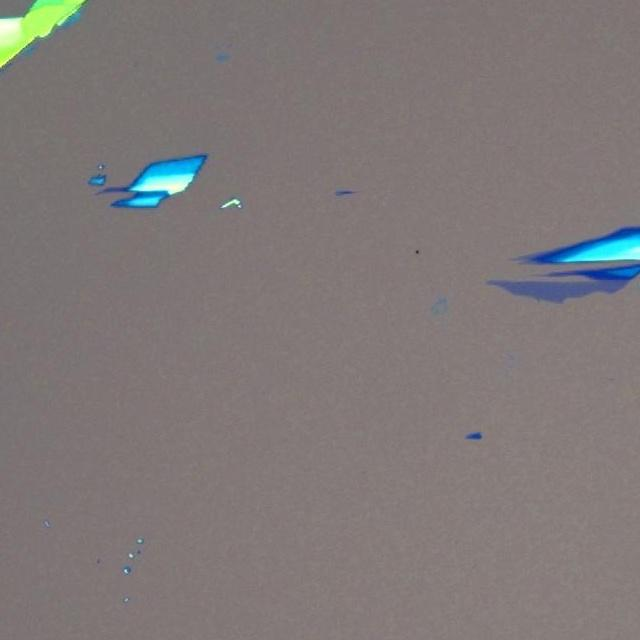monolayer-eWW4: (489, 278, 628, 306)
